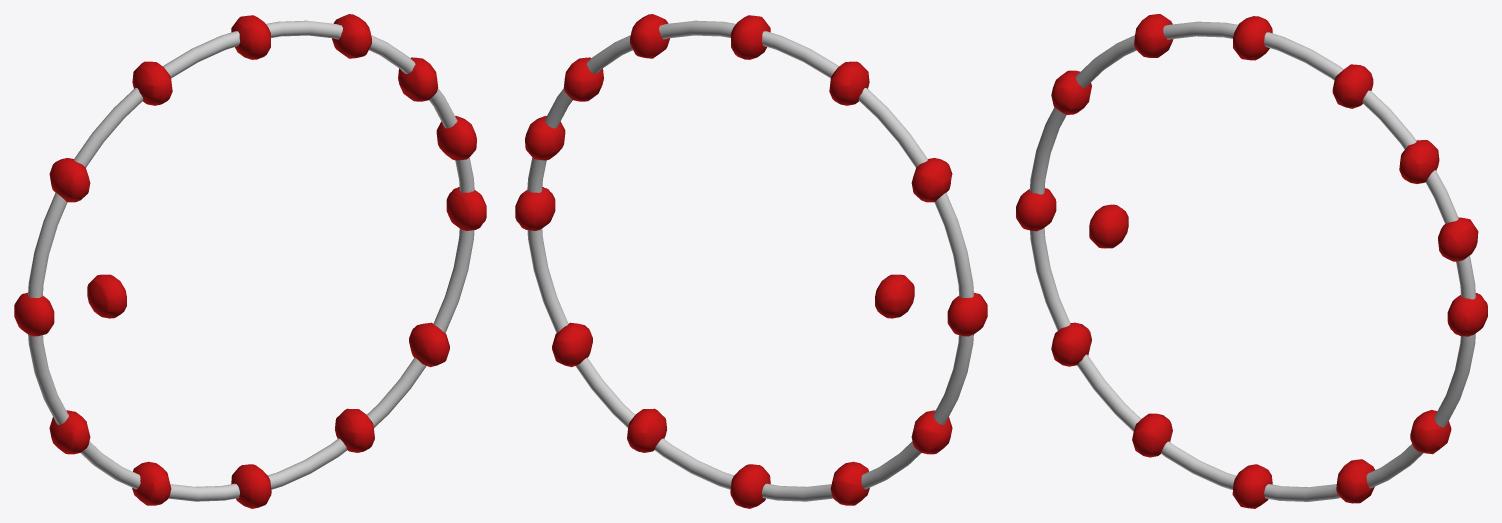
The picture shows the model from 3 angles, left to right: view 1: azimuth 30°, elevation 25°; view 2: azimuth 150°, elevation 25°; view 3: azimuth 330°, elevation 25°; orthographic projection.
Visible parts, largest first — view 1: Electron_Mball, Ring_Torus, Electron.001_Mball.004; view 2: Electron_Mball, Ring_Torus, Electron.001_Mball.004; view 3: Electron_Mball, Ring_Torus, Electron.001_Mball.004.
Part boxes in pixels (box(x1,y1,x2,y2)): Electron_Mball: box(14, 14, 486, 508); Ring_Torus: box(28, 20, 474, 501); Electron.001_Mball.004: box(87, 187, 486, 318); Electron_Mball: box(515, 14, 987, 508); Ring_Torus: box(527, 20, 973, 501); Electron.001_Mball.004: box(515, 187, 914, 318); Electron_Mball: box(1016, 14, 1487, 508); Ring_Torus: box(1029, 21, 1475, 501); Electron.001_Mball.004: box(1089, 204, 1487, 336).
Bounding box in the file's own units: 2.56 × 2.58 × 0.25.
